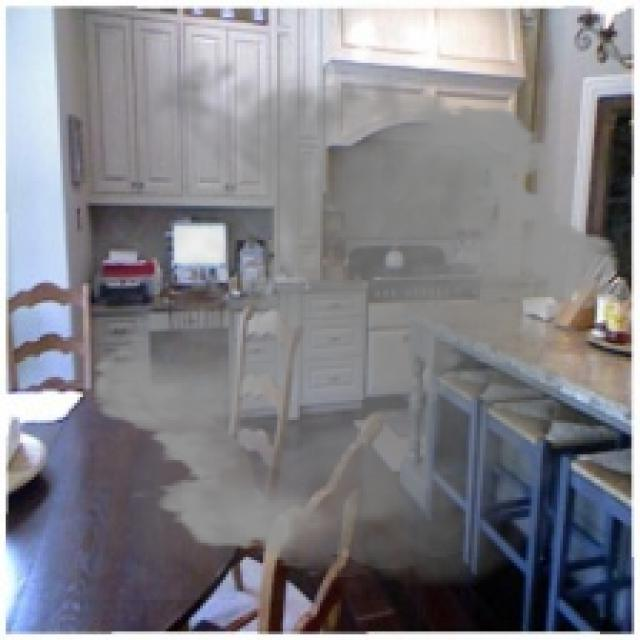Smoke: (74, 40, 637, 600)
